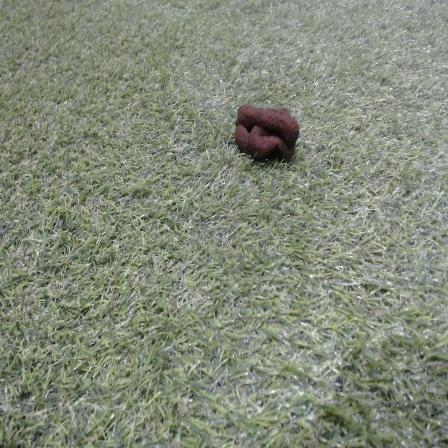dog-poop: (232, 104, 305, 165)
